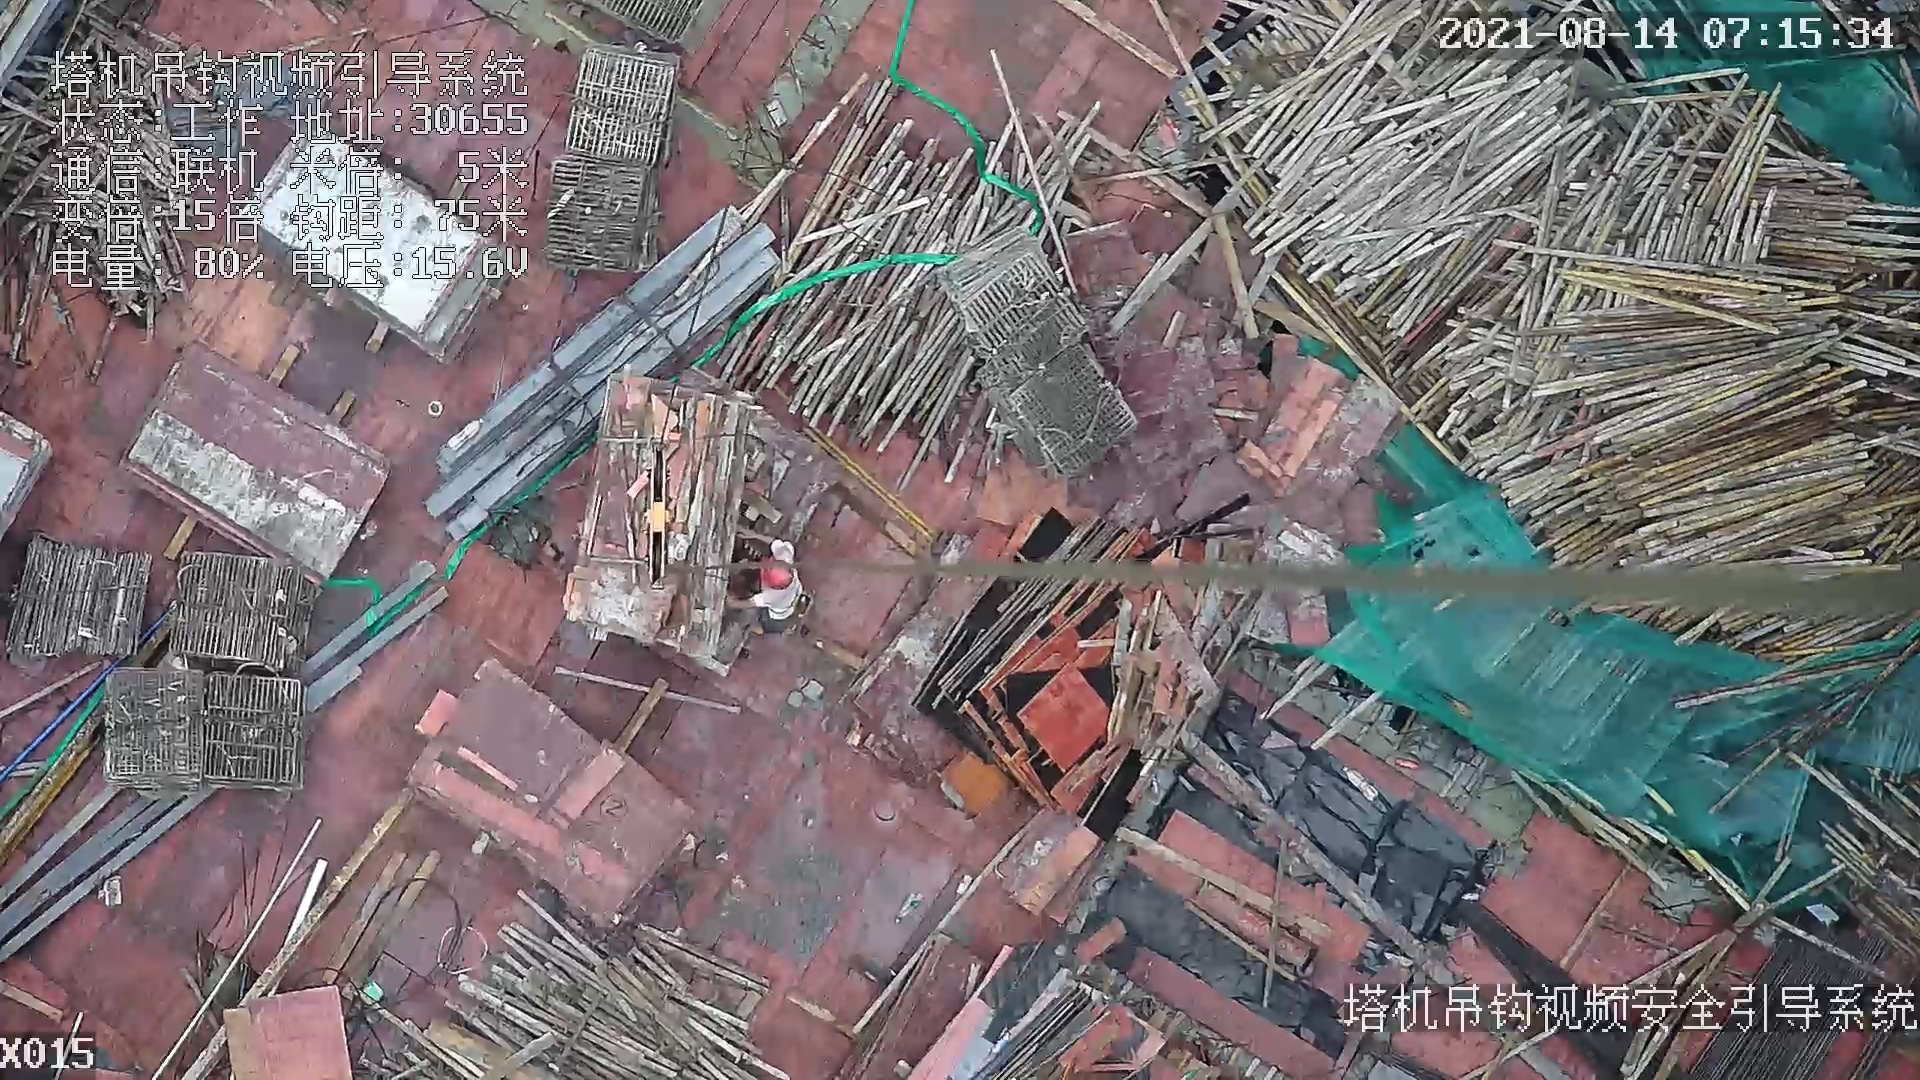helmet: (763, 553, 801, 593)
hook: (642, 445, 674, 589)
person: (742, 541, 804, 636)
